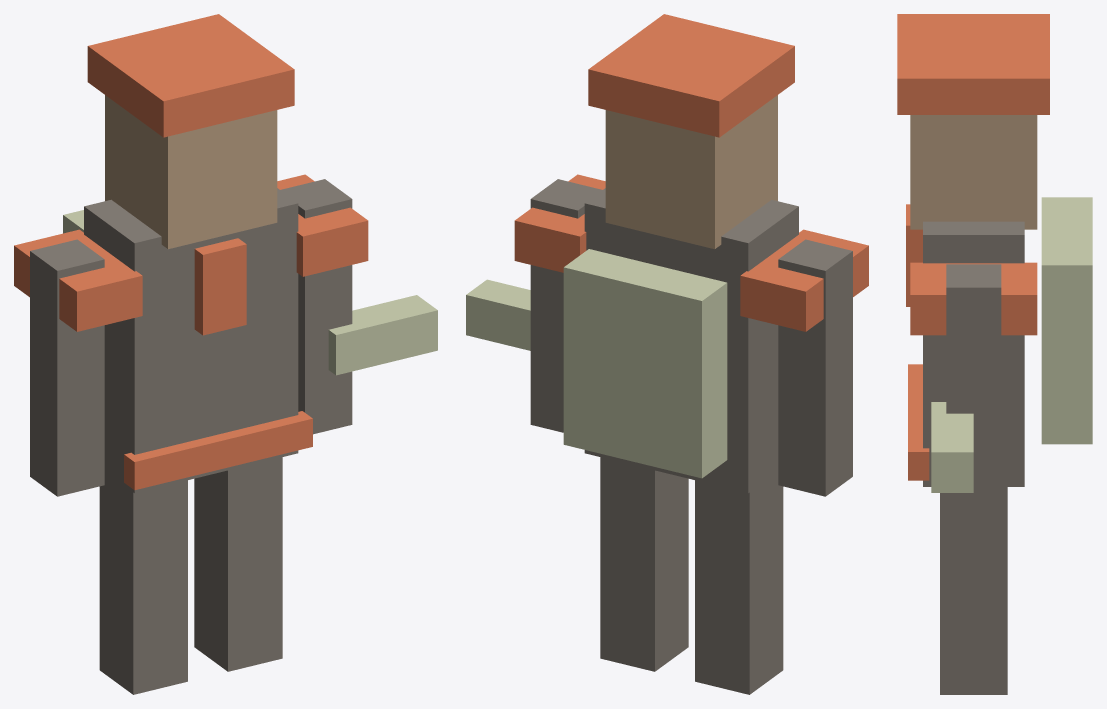
File: 03_rook_latchward_responder_of_war.glb
3 views of the same model, side by side, from view 1: azimuth 30°, elevation 25°; view 2: azimuth 150°, elevation 25°; view 3: azimuth 270°, elevation 25° (orthographic).
Parts seen in each view (by area): view 1: Rook Latchward, Responder of War; view 2: Rook Latchward, Responder of War; view 3: Rook Latchward, Responder of War.
Boxes of the visible parts, x1,y1,x2,y2 form: Rook Latchward, Responder of War: [14, 14, 437, 694]; Rook Latchward, Responder of War: [466, 14, 868, 694]; Rook Latchward, Responder of War: [897, 14, 1092, 694].
Size of the model in its own units: 0.9773 by 1.52 by 0.4386.
